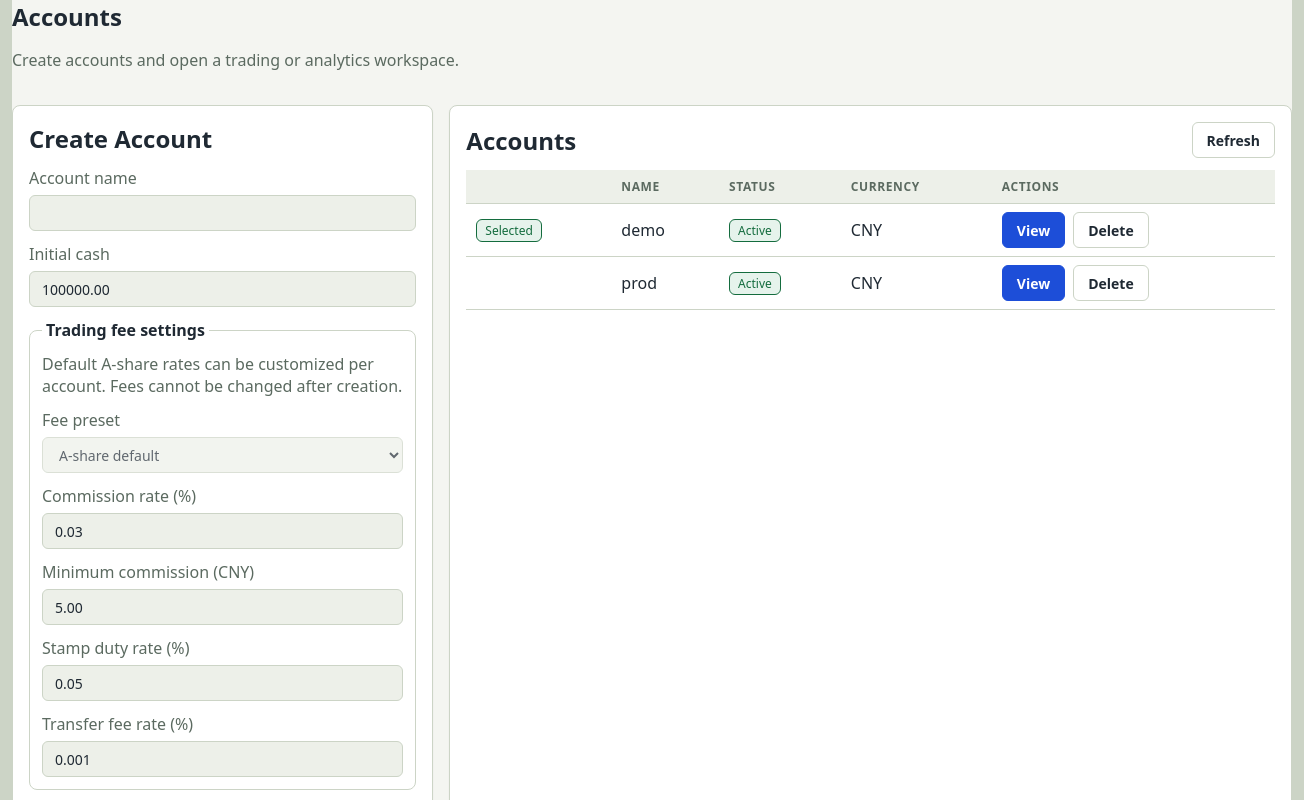
Scenario: AccountsPage › switches positions without requesting the cash ledger when selecting a different account
Expected: the text "prod" is shown, [611, 256, 719, 310]
Note: Click View on the second account
What coordinates should you click on to do the following:
click the button with aria-label "View prod"
I would click on:
 (1034, 283)
Its box is [1002, 265, 1065, 301].
(page scrolled)
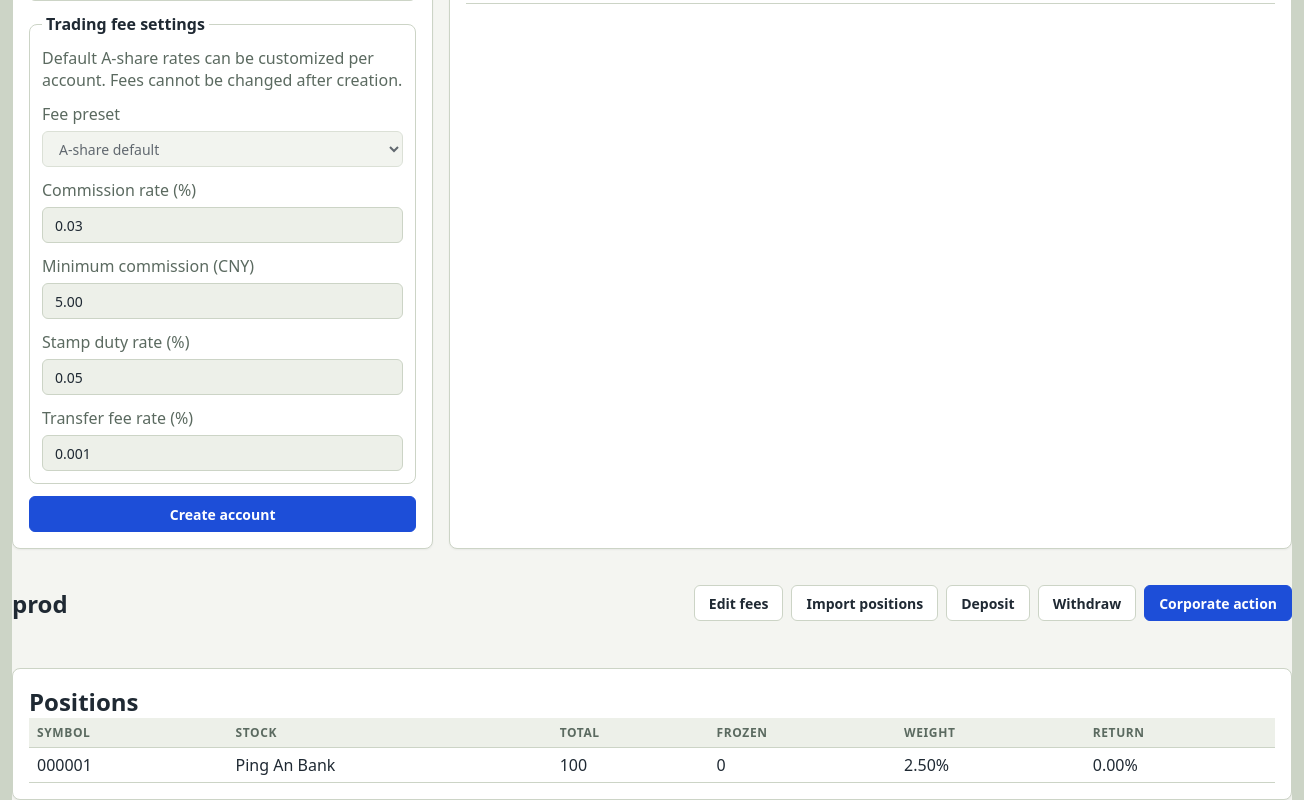
Expected: the heading "Positions" is shown, [29, 685, 138, 718]
Result: the cell "2.50%" is shown at [896, 747, 1085, 782]
